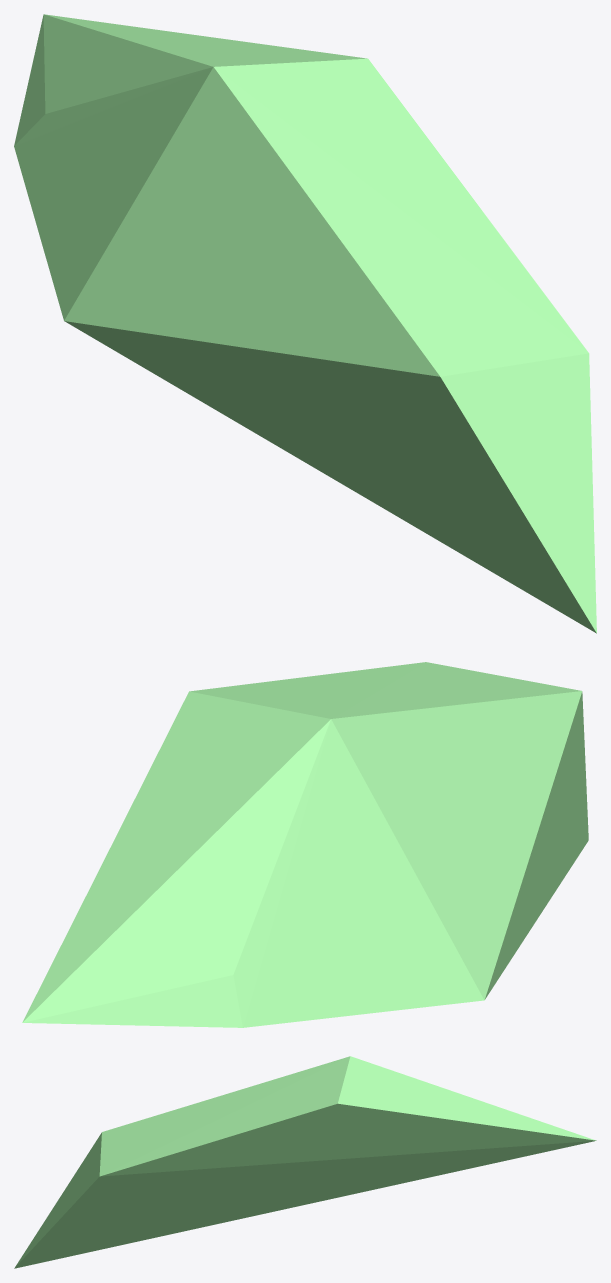
Rendered from xarm7_with_gripper_LR4_R560_link6_respondable_coll_28.dae.
The picture shows the model from 3 angles, top to bottom: view 1: azimuth 30°, elevation 25°; view 2: azimuth 150°, elevation 25°; view 3: azimuth 270°, elevation 25°; orthographic projection. The views are drawn at different scales.
Parts seen in each view (by area): view 1: Node_000001B88F9DE460; view 2: Node_000001B88F9DE460; view 3: Node_000001B88F9DE460.
Boxes of the visible parts, x1,y1,x2,y2 form: Node_000001B88F9DE460: (14, 14, 596, 633); Node_000001B88F9DE460: (22, 662, 588, 1027); Node_000001B88F9DE460: (14, 1056, 596, 1268).
Size of the model in its own units: 0.0164 by 0.0193 by 0.0528.
